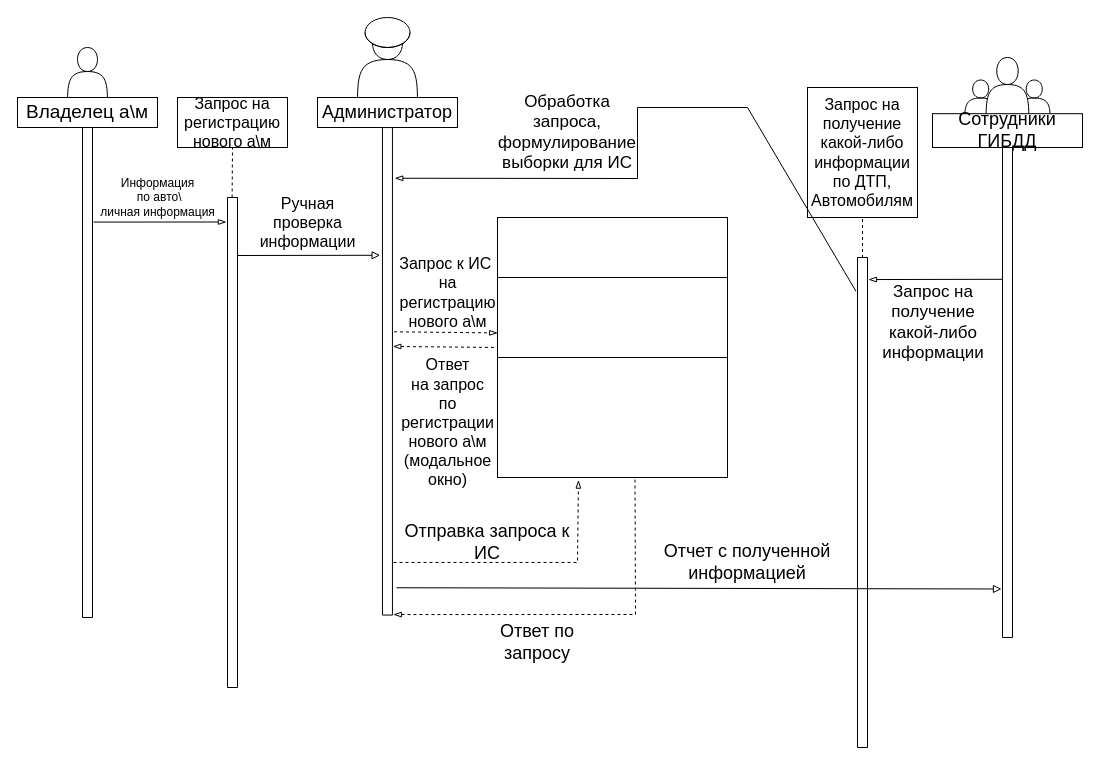
Some shapes in this 1100 by 765 pixel diagram are drawn without their labels. Here are the shapes that lost their labels. From the top down, the box of each, then its label:
(496, 216, 728, 278): Информационная система
(496, 276, 728, 362): Новый а\м зарегистрирован
(496, 356, 728, 478): Запрос на получение информации по требованиям.
